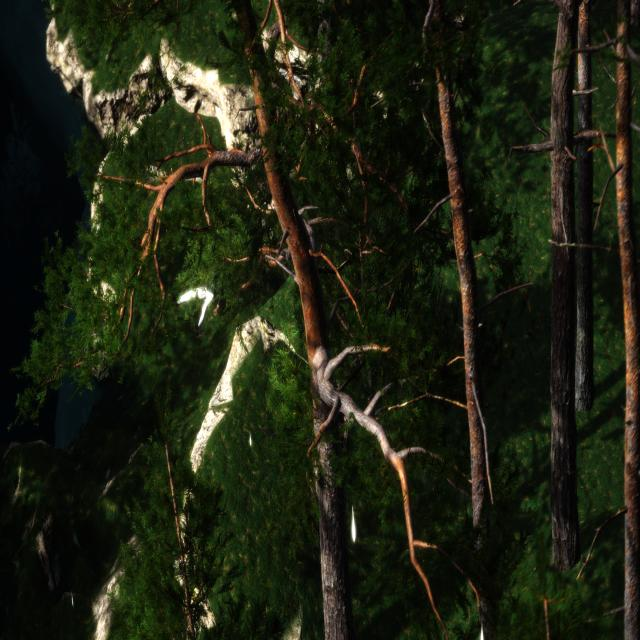Human: (168, 248, 227, 333)
